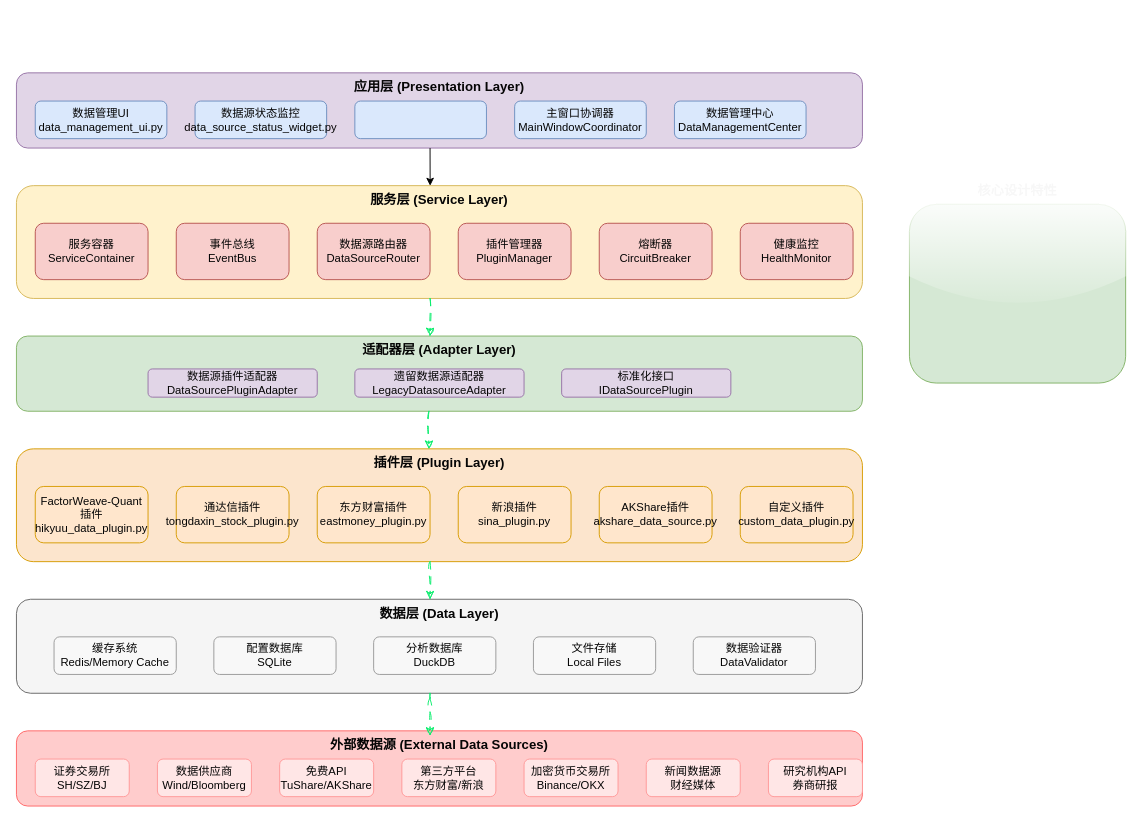
Some shapes in this 1142 by 823 pixel diagram are drawn without their labels. Each missing label, with the centre of its shape:
"• 插件化架构支持动态扩展 • 智能路由选择最优数据源 • 熔断器保障系统稳定性 • 标准化接口确保一致性 • 多层缓存提升性能 • 健康监控保证可用性" belongs at point (1017, 293).
"插件配置对话框 data_source_plugin_config_dialog.py" belongs at point (420, 119).
